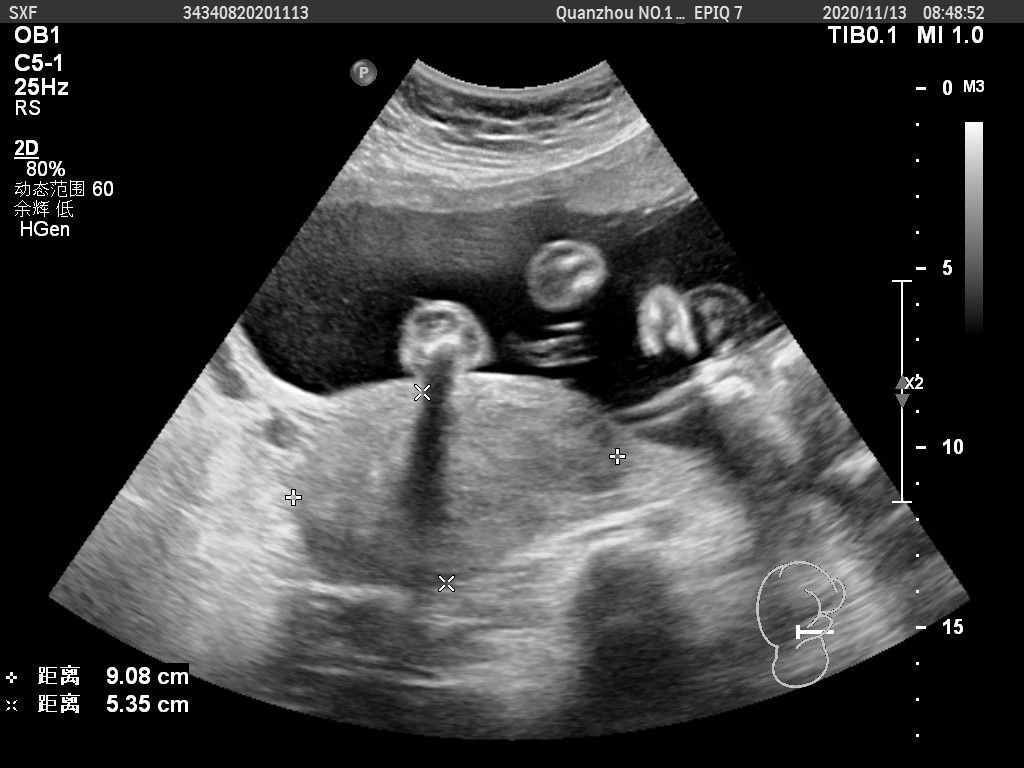肌瘤: (297, 397, 595, 576)
